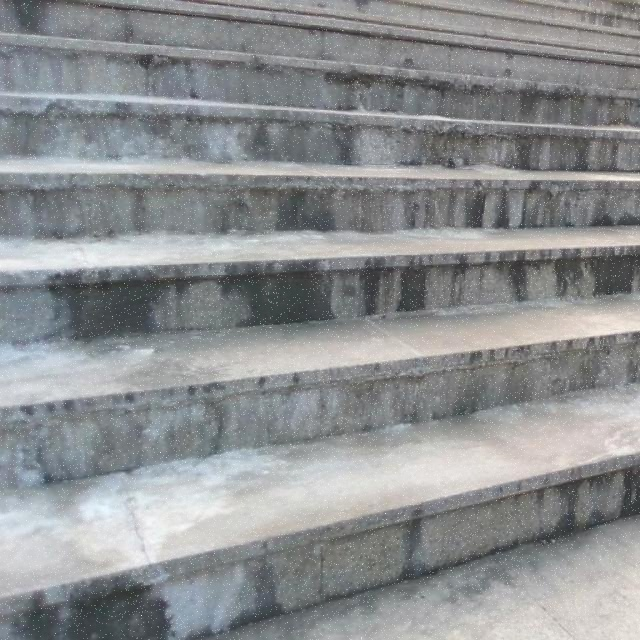stair: (0, 1, 636, 615)
